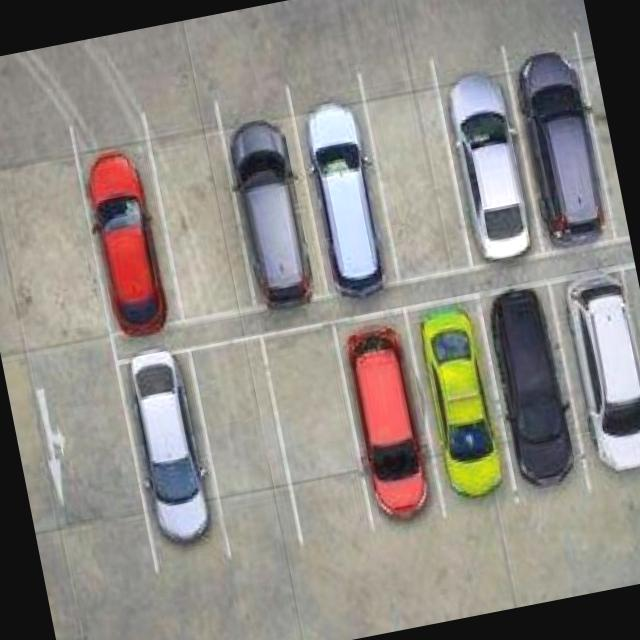car: (118, 348, 227, 568), (297, 80, 401, 294), (484, 290, 591, 498), (437, 52, 542, 258), (343, 330, 447, 532), (509, 40, 612, 242), (218, 98, 319, 302), (409, 315, 512, 509), (80, 144, 178, 338), (555, 274, 640, 486)
free: (190, 342, 301, 552), (364, 68, 468, 278), (264, 336, 371, 537), (148, 125, 250, 318), (582, 57, 628, 232)
